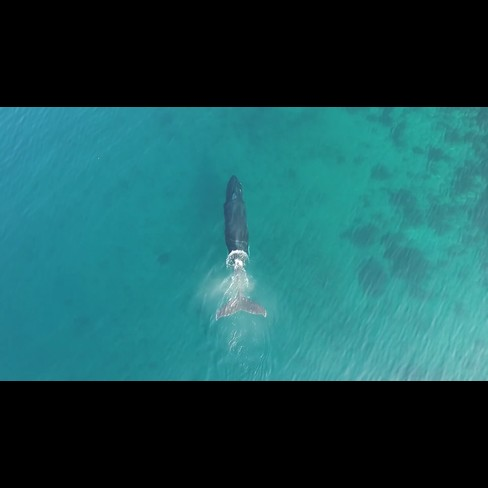hump: (201, 164, 276, 333)
